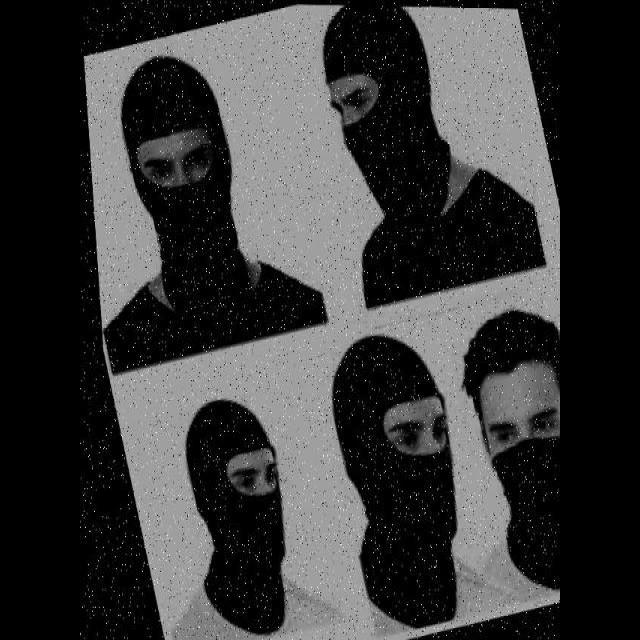6_pasamontana: (332, 335, 458, 628)
